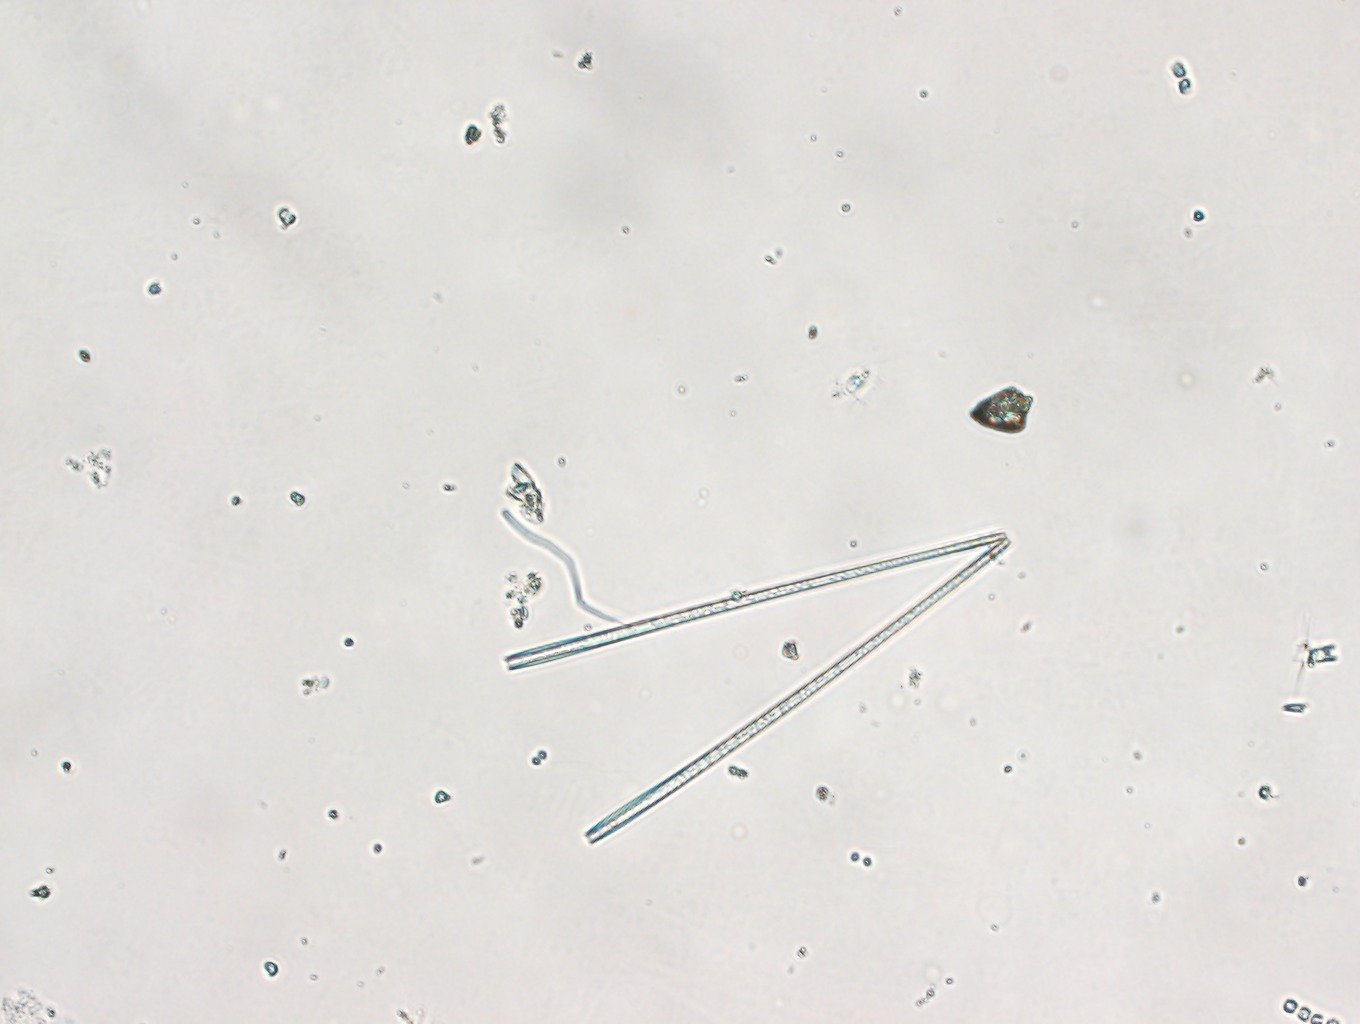thalassionema frauenfeldii: (502, 534, 1011, 843)
